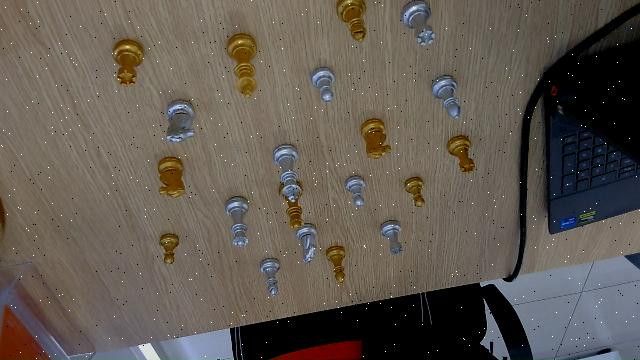black_bishop: (334, 0, 374, 47), (323, 243, 349, 288)
black_king: (223, 31, 261, 100)
black_knight: (358, 117, 394, 161), (155, 155, 187, 202)
black_pawn: (154, 231, 181, 266), (403, 176, 428, 209)
black_queen: (283, 202, 307, 231)
black_rook: (110, 37, 145, 88), (446, 133, 477, 175)
white_bishop: (429, 72, 464, 120), (259, 256, 285, 299)
white_king: (274, 144, 301, 201)
white_knight: (161, 98, 199, 145), (294, 222, 319, 267)
white_pawn: (308, 65, 337, 105), (343, 175, 369, 209)
white_queen: (225, 196, 249, 248)
white_rook: (399, 0, 436, 48), (379, 217, 404, 259)
